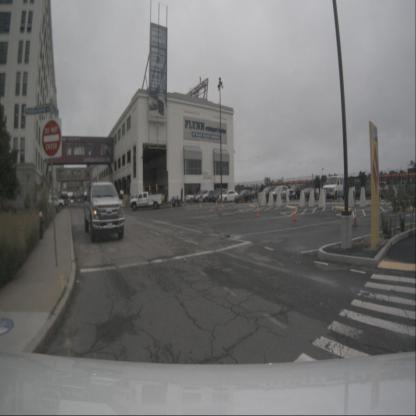movable_object-trafficcone: (352, 206, 358, 228), (293, 206, 297, 221), (256, 203, 260, 217), (215, 200, 218, 212), (218, 204, 221, 216), (170, 201, 173, 211)
vehicle-car: (323, 174, 344, 199), (211, 188, 233, 203), (272, 185, 291, 201), (199, 186, 218, 202), (260, 186, 276, 202), (236, 189, 254, 203), (220, 189, 235, 201), (186, 191, 196, 201)
vehicle-truck: (83, 180, 126, 242), (129, 190, 165, 210), (43, 193, 66, 209), (287, 182, 306, 199)
